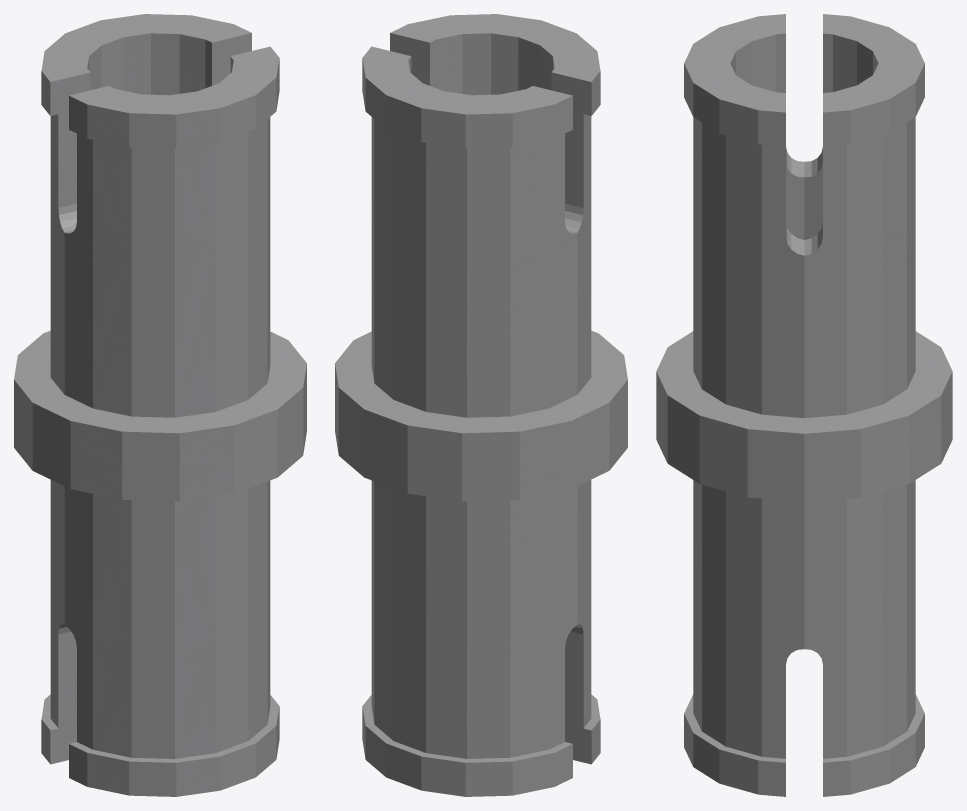
Rendered from connector_peg.dae.
3 views of the same model, side by side, from view 1: azimuth 30°, elevation 25°; view 2: azimuth 150°, elevation 25°; view 3: azimuth 270°, elevation 25° (orthographic).
Parts seen in each view (by area): view 1: node; view 2: node; view 3: node.
Part boxes in pixels (<box>): node: <box>14,14,306,796</box>; node: <box>335,14,627,796</box>; node: <box>656,14,952,796</box>.
Bounding box in the file's own units: 15.5 × 39.5 × 15.5.
1 material, 1 textured.
